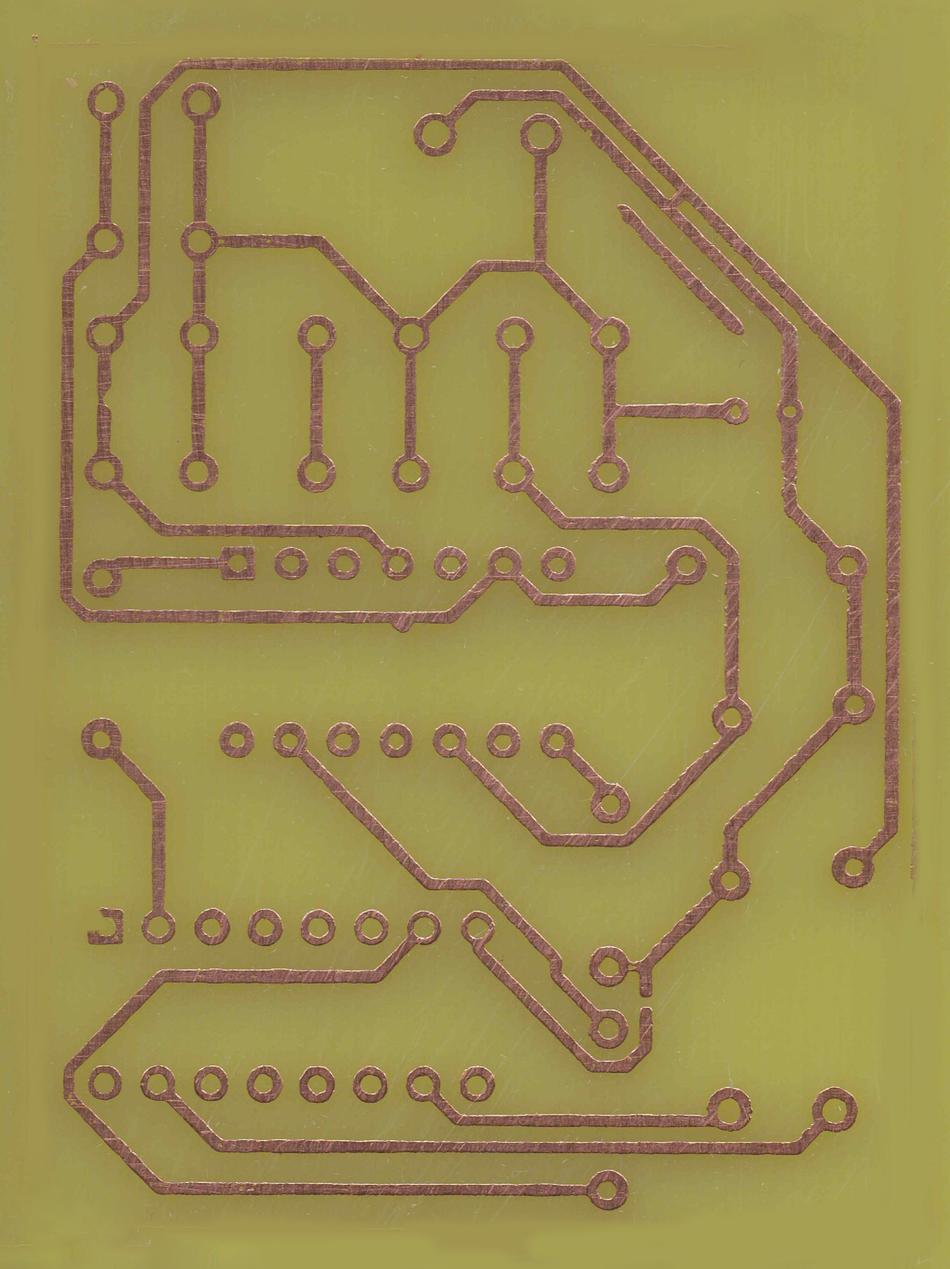missing_hole: (83, 905, 126, 949)
mouse_bite: (92, 374, 118, 417)
open_circuit: (634, 983, 659, 1018)
short: (653, 180, 699, 220)
spur: (388, 606, 416, 634)
spurious_copper: (611, 200, 752, 342)
